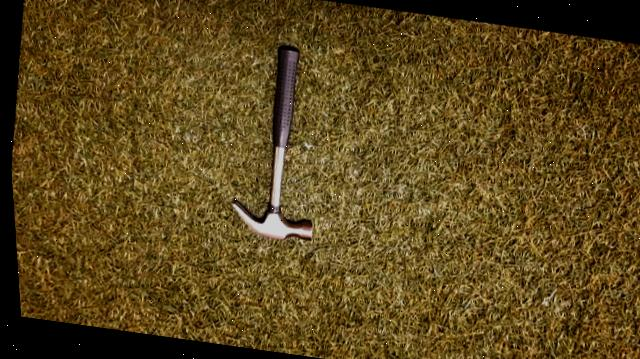hammer: (215, 34, 347, 242)
